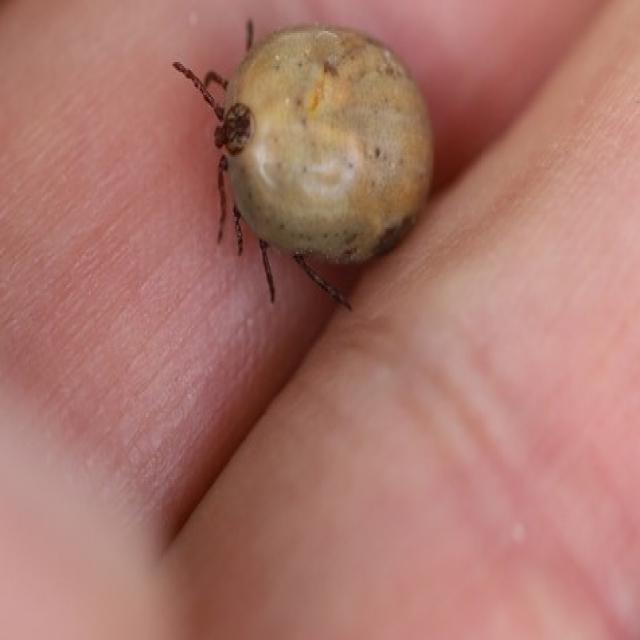Dermacentor Reticulatus-F-Fed: (172, 19, 434, 312)
